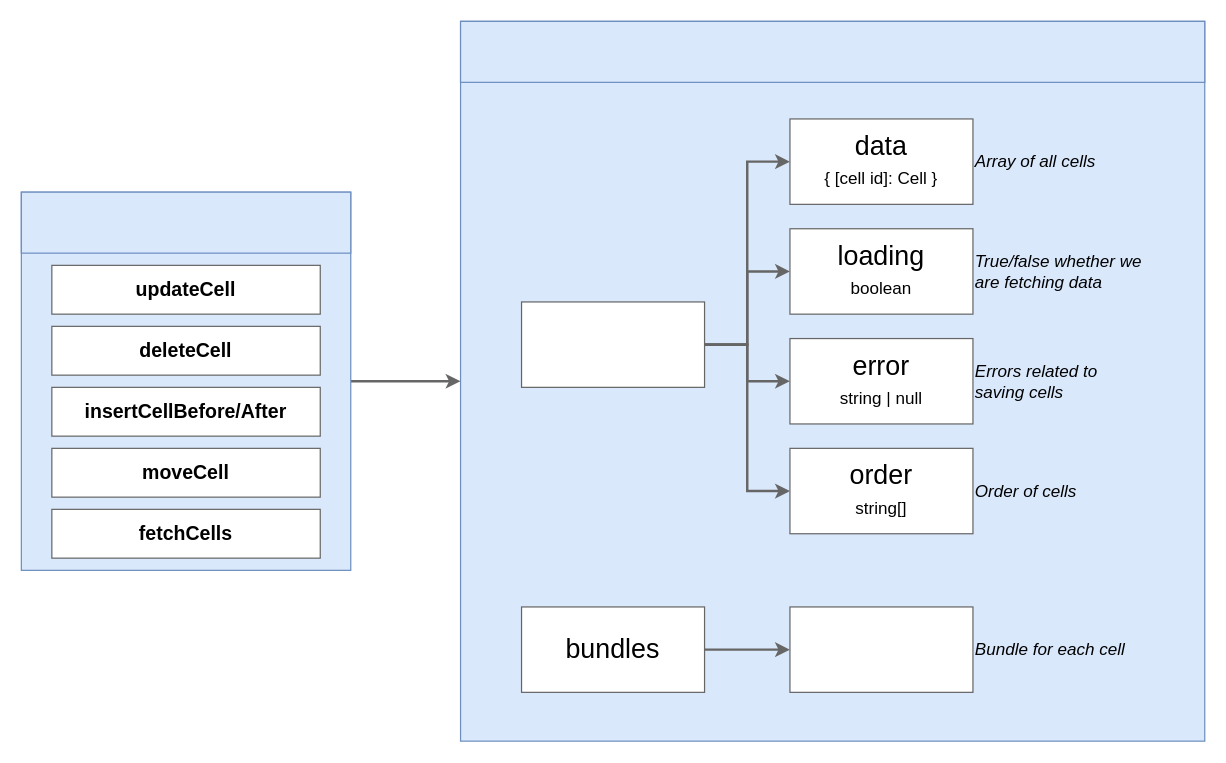
Some shapes in this 1226 by 763 pixel diagram are drawn without their labels. Here are the shapes that lost their labels. From the top down, the centre of each, then its label:
At point 832,51: "Redux Store".
At point 185,222: "Action Creators".
At point 612,344: "cells".
At point 881,649: "data { [cell id]: Bundle }".
